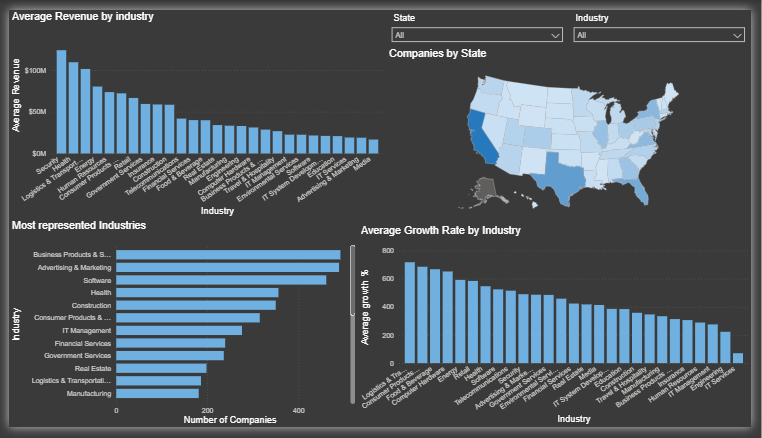

The dashboard page shown, as its layout file describes it:
{"tool":"powerbi","page":{"name":"Page 1","canvas":[1280,720],"ordinal":0},"visuals":[{"type":"columnChart","title":"Average Revenue by industry","fields":{"Category":["INC 5000 Companies 2019 (2).industry","INC 5000 Companies 2019 (2).name"],"Y":["Avg(INC 5000 Companies 2019 (2).$ Revenue)"]},"box":[0,0,650.4,360.5],"z":0},{"type":"clusteredBarChart","title":"Most represented Industries","fields":{"Category":["INC 5000 Companies 2019 (2).industry"],"Y":["CountNonNull(INC 5000 Companies 2019 (2).name)"]},"box":[0,360,602,360],"z":1000},{"type":"shapeMap","title":"Companies by State","fields":{"Category":["INC 5000 Companies 2019 (2).state"],"Value":["CountNonNull(INC 5000 Companies 2019 (2).name)"]},"box":[650,64,630,296],"z":2000},{"type":"columnChart","title":"Average Growth Rate by Industry","fields":{"Category":["INC 5000 Companies 2019 (2).industry"],"Y":["Avg(INC 5000 Companies 2019 (2).growth_%)"]},"box":[602,370,678,350],"z":3000},{"type":"slicer","fields":{"Values":["INC 5000 Companies 2019 (2).industry"]},"box":[965,0,315,63.3],"z":7000},{"type":"slicer","fields":{"Values":["INC 5000 Companies 2019 (2).state"]},"box":[650,0,315,58.3],"z":8000}]}

Visuals, with their boxes in screenshot pixels (x1, y1, x2, y2), scaled from the page's 1280x720 canvas onto the 762x438 screenshot:
"Average Revenue by industry" columnChart: (0, 0, 387, 219)
"Most represented Industries" clusteredBarChart: (0, 219, 358, 437)
"Companies by State" shapeMap: (387, 39, 761, 219)
"Average Growth Rate by Industry" columnChart: (358, 225, 761, 437)
slicer - INC 5000 Companies 2019 (2).industry: (574, 0, 761, 39)
slicer - INC 5000 Companies 2019 (2).state: (387, 0, 574, 35)
